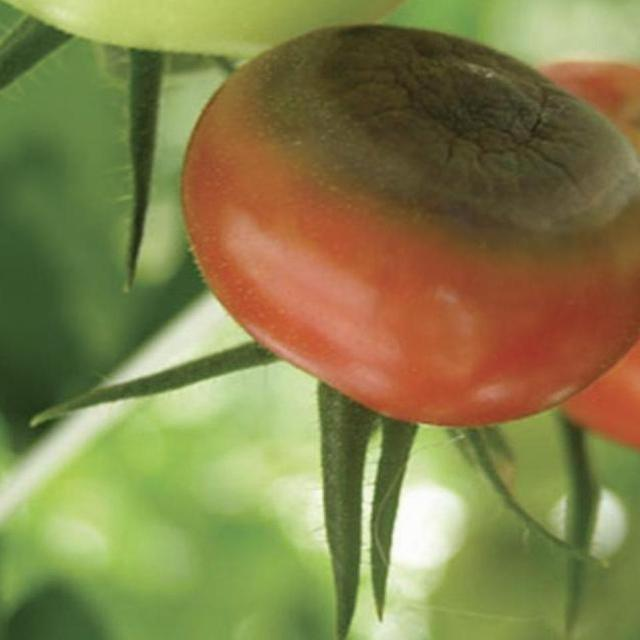Blossom End Rot Fruit: (167, 14, 427, 172)
